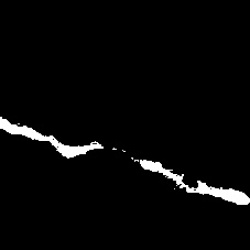crack: (134, 158, 248, 208), (0, 117, 110, 160)
pinhole: (111, 144, 129, 156)
